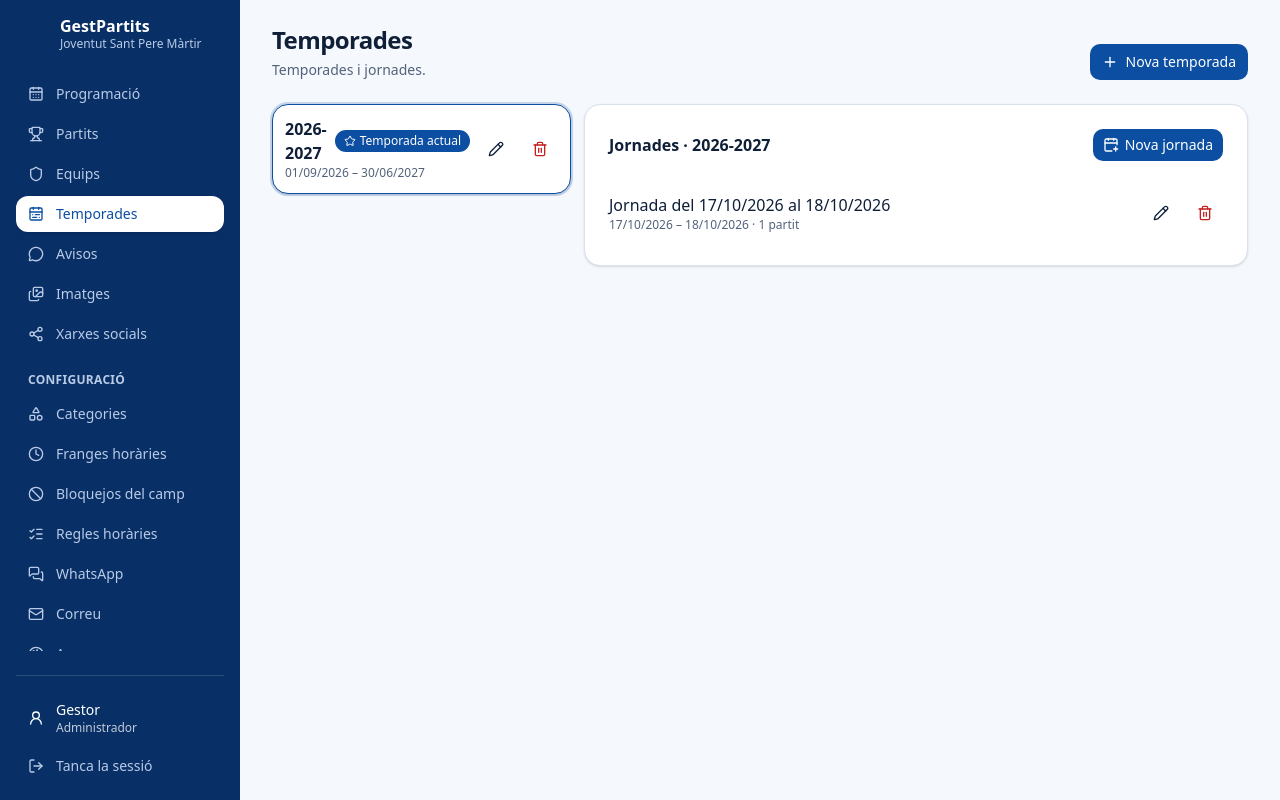
Scenario: jornades › rebutja dates impossibles
The image size is (1280, 800).
Click the button "Nova jornada" at (1158, 145), box 1093,129 -> 1223,161
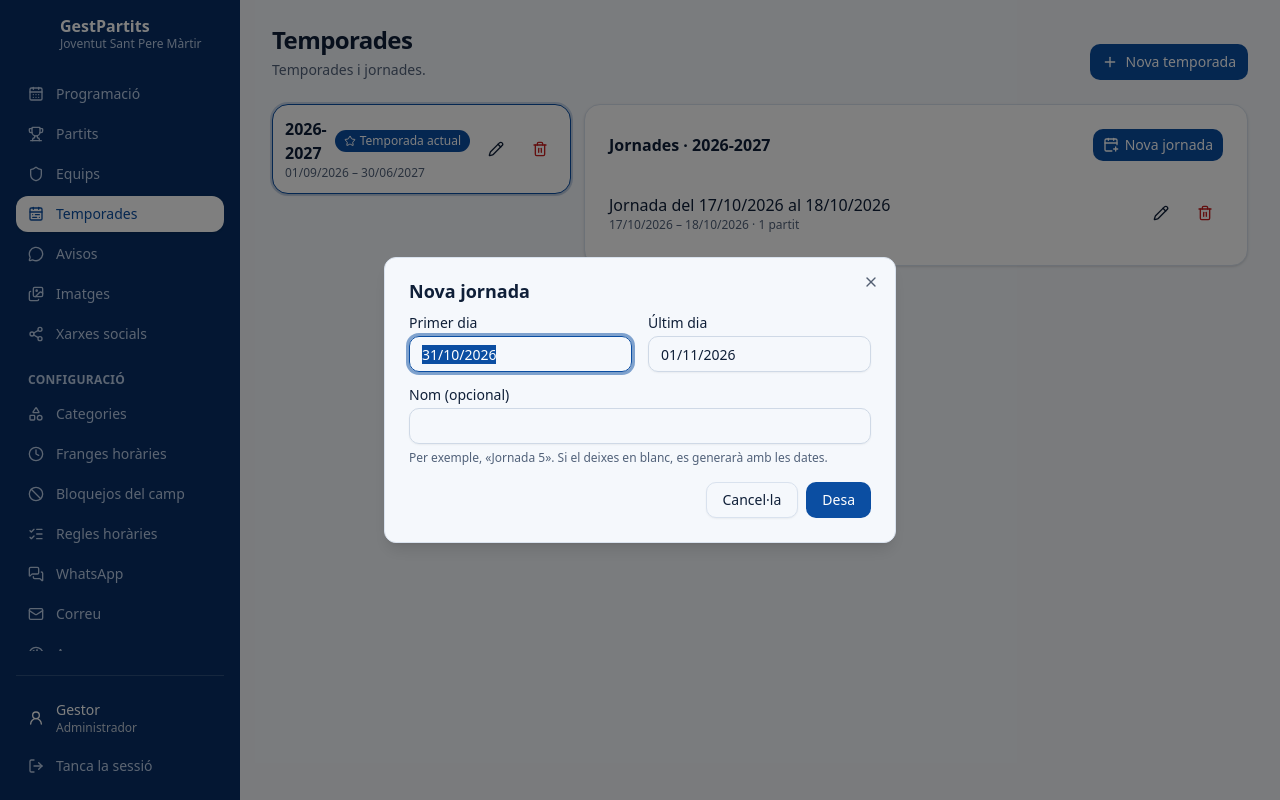
Replace the text in the field labelled "Últim dia" with "31022027" at (760, 354), box 648,336 -> 871,372
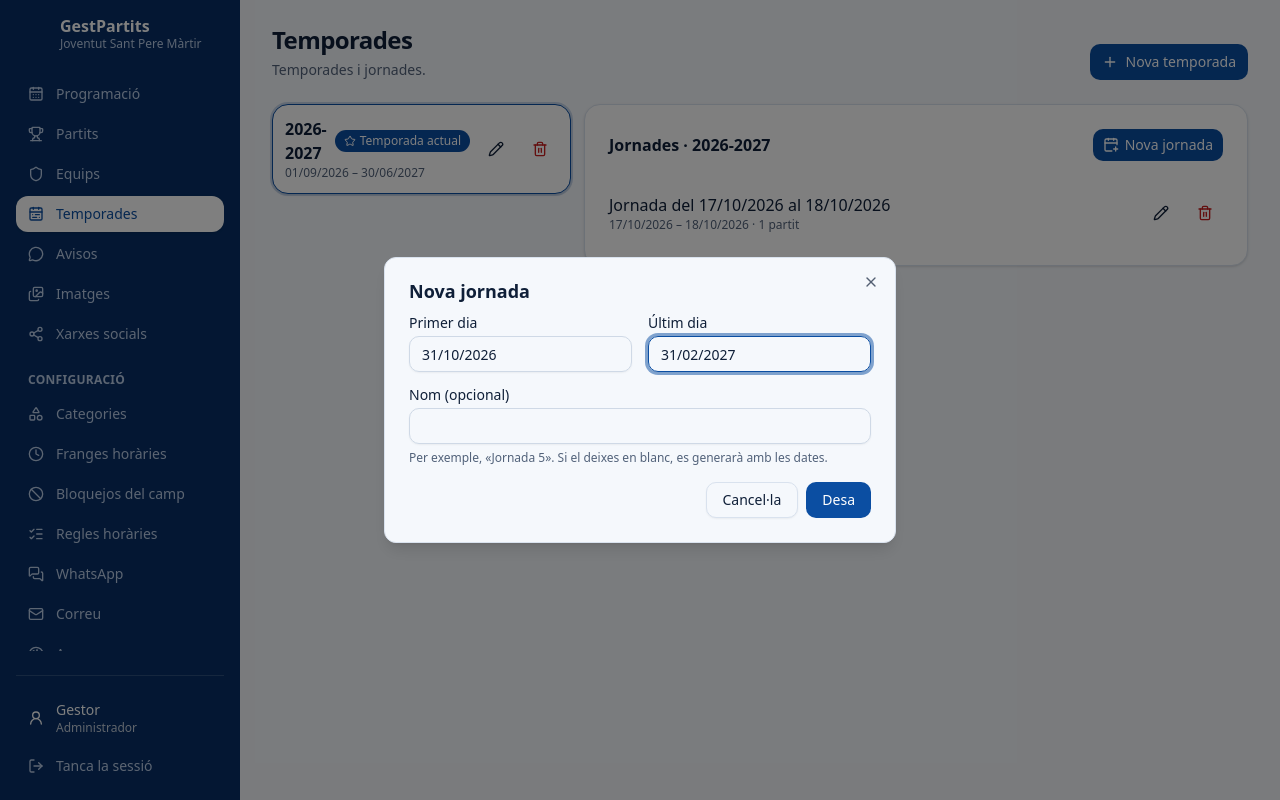
Click the button "Desa" at (839, 500), box 806,482 -> 871,518
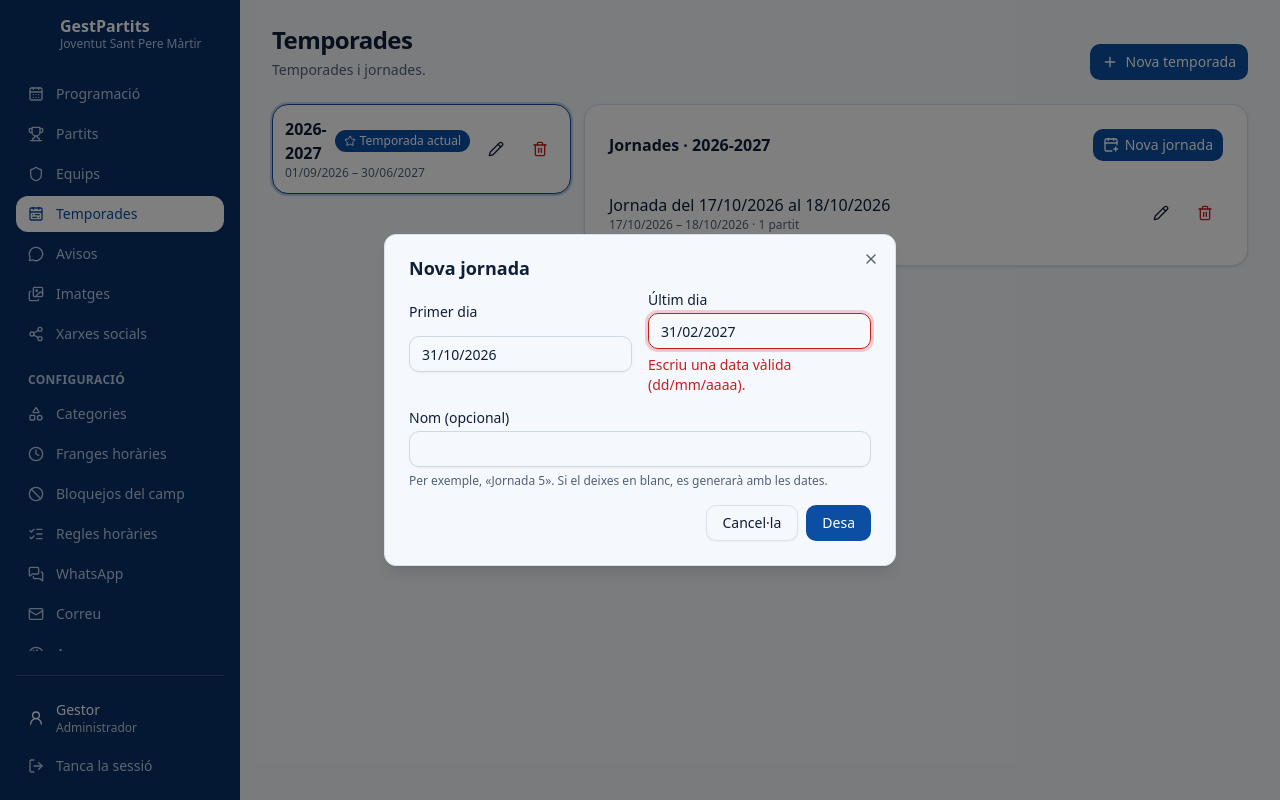
Expected: the text "Escriu una data vàlida (dd/mm/aaaa)." is shown, 648,355 -> 791,394
